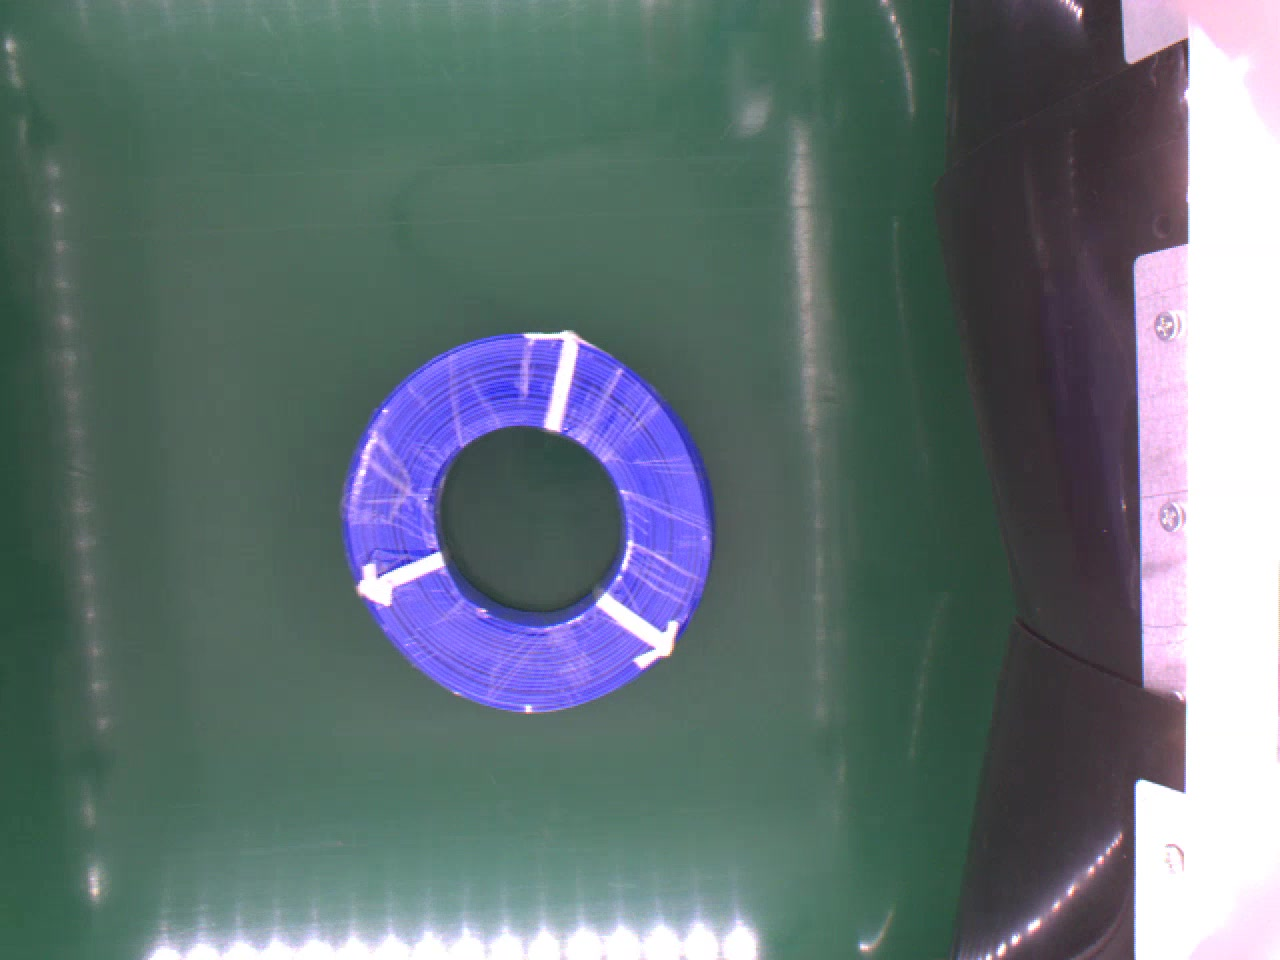blue: (337, 326, 715, 715)
